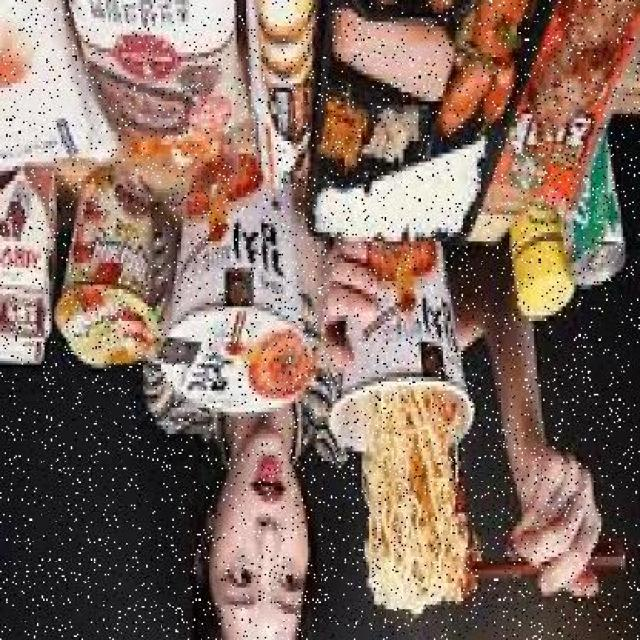Miscellaneous: (165, 153, 310, 413), (322, 222, 470, 460), (52, 174, 152, 366)
